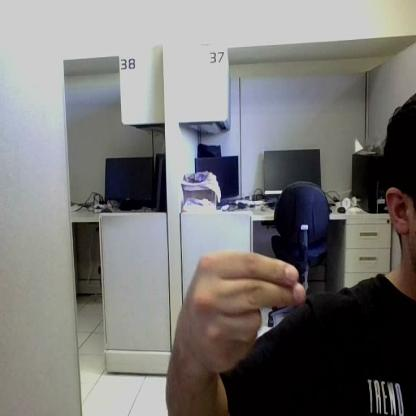H: (187, 250, 306, 372)
